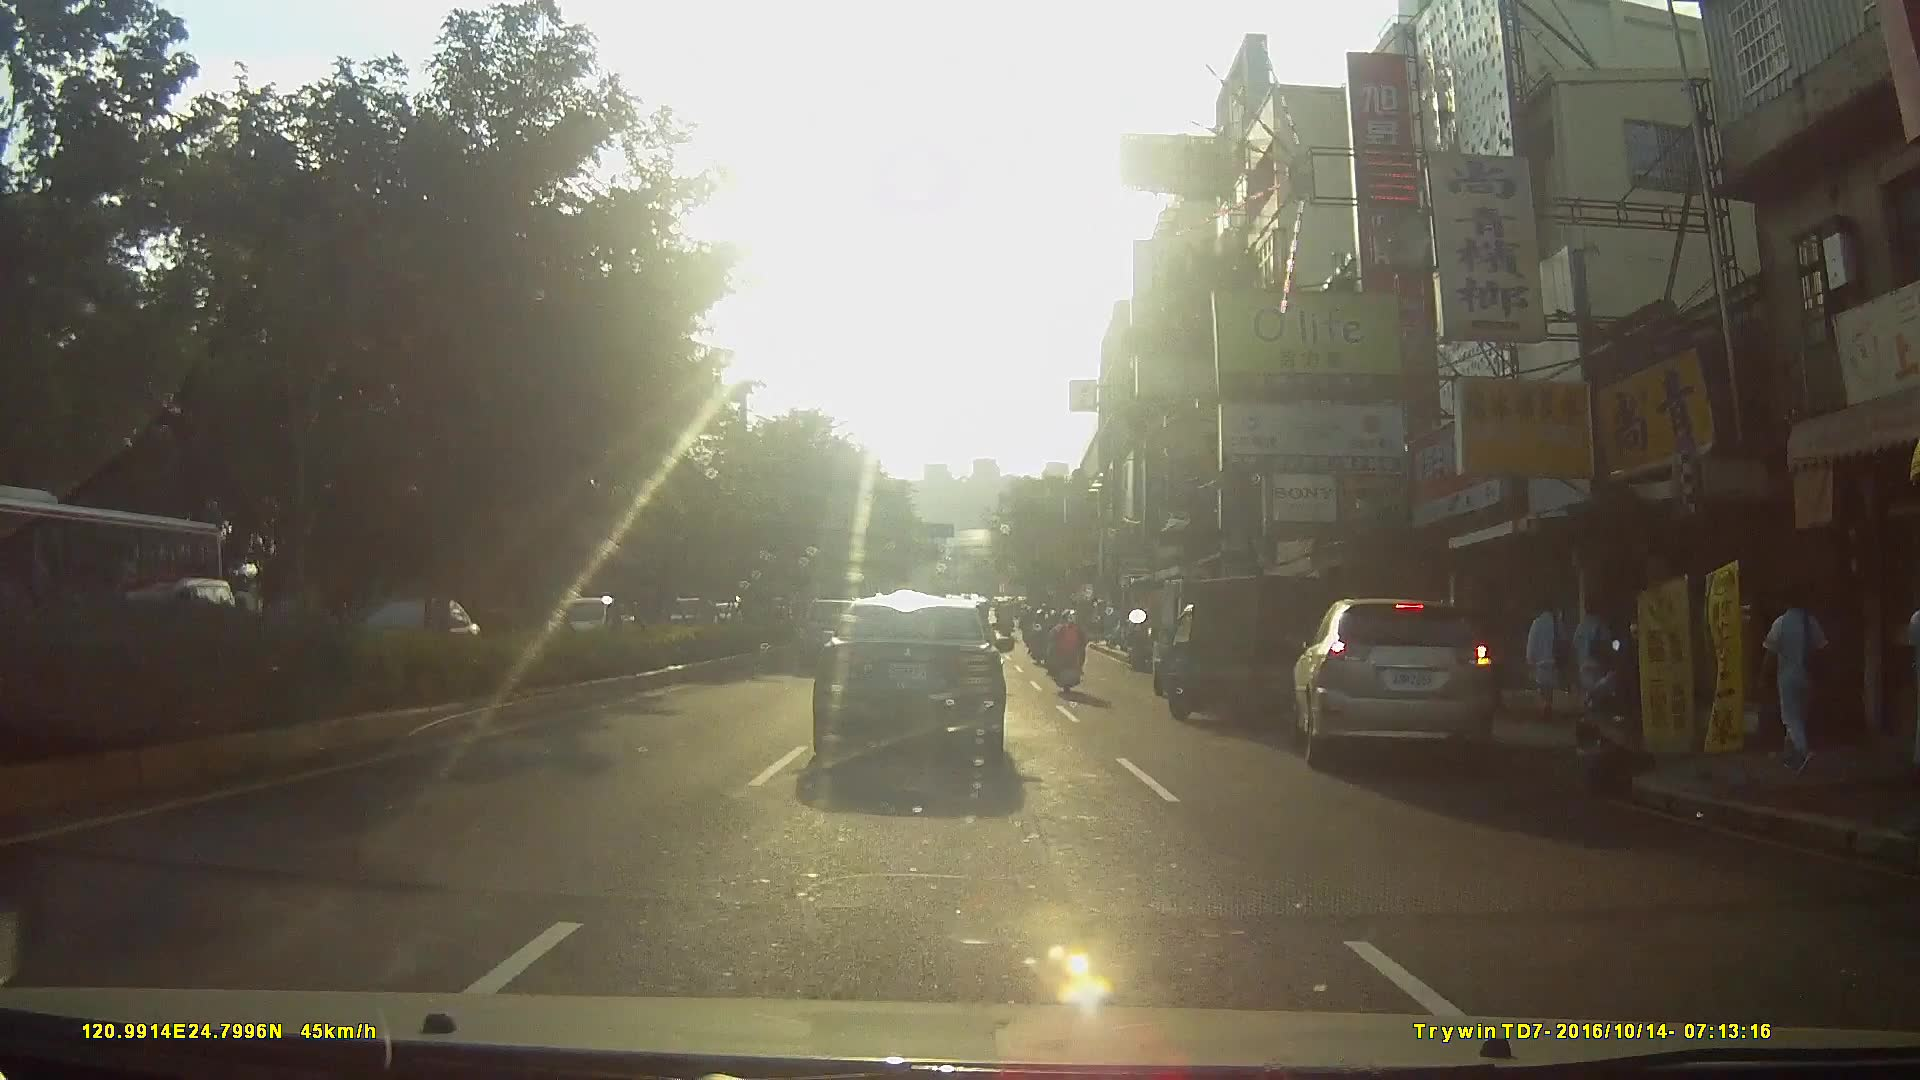pedestrian: (1762, 587, 1836, 779), (1521, 593, 1578, 727), (1567, 593, 1621, 736), (1901, 579, 1920, 778)
rider: (1044, 606, 1085, 698), (1024, 610, 1052, 666)
vehicle: (1289, 586, 1524, 791), (808, 592, 1026, 777), (1, 496, 228, 673), (1140, 569, 1297, 742)
